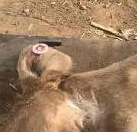text: (23, 35, 53, 64)
